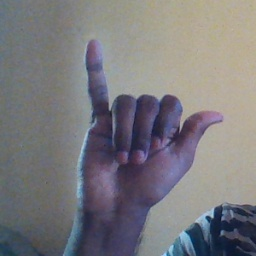J: (71, 38, 223, 205)
